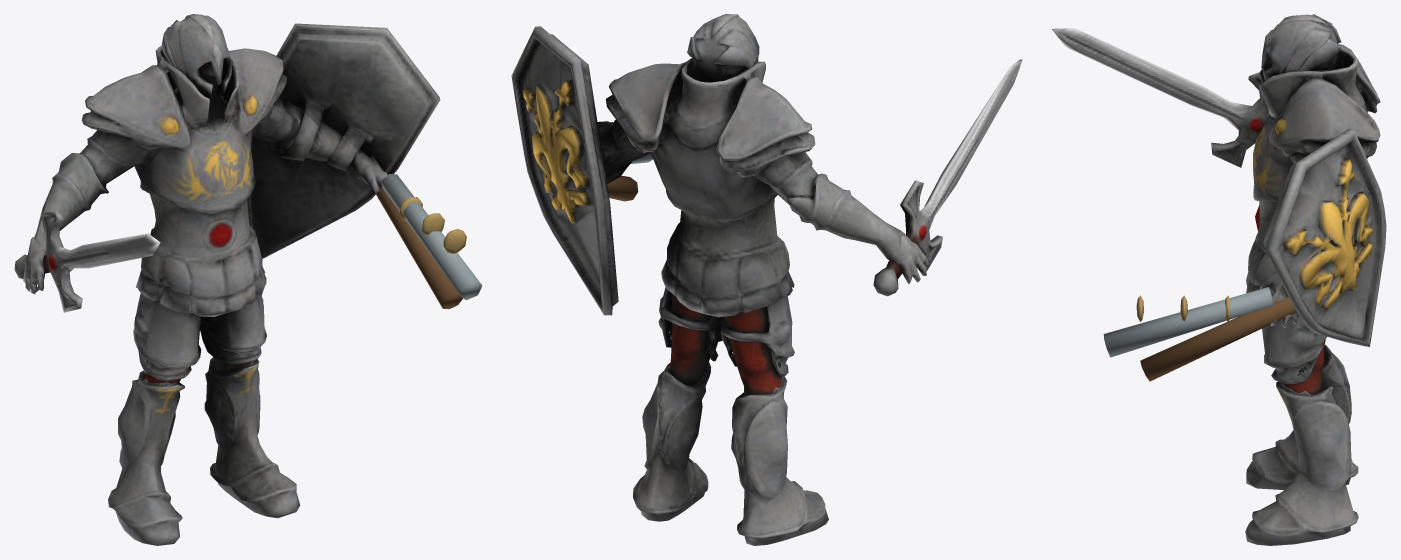
Rendered from actor-gunner-mobile.glb.
3 renders of one model, left to right at view 1: azimuth 30°, elevation 25°; view 2: azimuth 150°, elevation 25°; view 3: azimuth 270°, elevation 25°, orthographic.
Visible parts, largest first — view 1: Group61487.001 · posed; view 2: Group61487.001 · posed; view 3: Group61487.001 · posed.
Boxes of the visible parts, <box> form: Group61487.001 · posed: <box>14,14,482,545</box>; Group61487.001 · posed: <box>511,14,1022,545</box>; Group61487.001 · posed: <box>1052,14,1386,545</box>.
Bounding box in the file's own units: 1.72 × 2 × 1.22.
4 materials, 1 textured.
